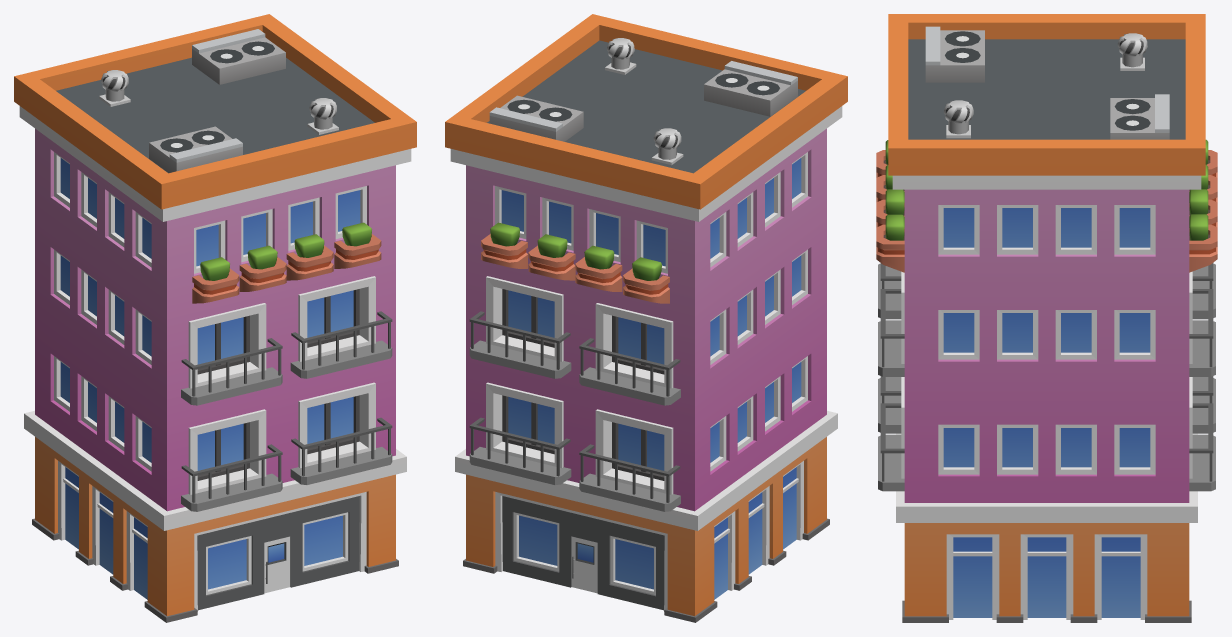
The model's file is residental_building_005.glb.
The picture shows the model from 3 angles, left to right: view 1: azimuth 30°, elevation 25°; view 2: azimuth 150°, elevation 25°; view 3: azimuth 270°, elevation 25°; orthographic projection. The views are drawn at different scales.
Parts seen in each view (by area): view 1: residental_building_005; view 2: residental_building_005; view 3: residental_building_005.
Boxes of the visible parts, x1,y1,x2,y2 form: residental_building_005: (14,14,416,622); residental_building_005: (445,14,847,622); residental_building_005: (876,14,1217,622).
Bounding box in the file's own units: 11.43 × 19.58 × 12.29.
1 material, 1 textured.
